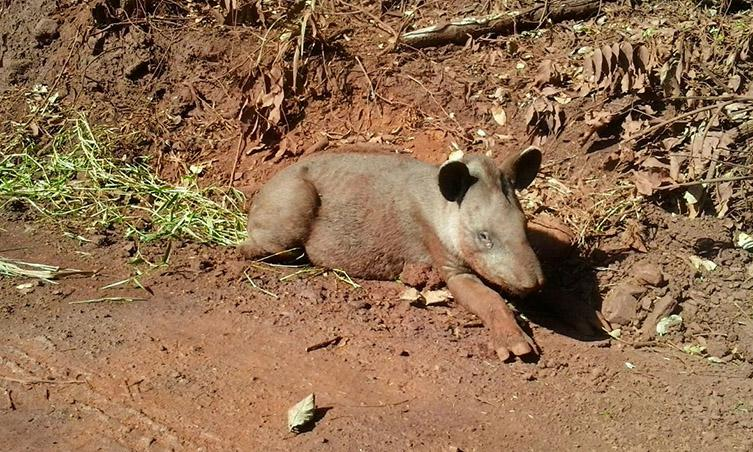Anta: (221, 128, 576, 373)
